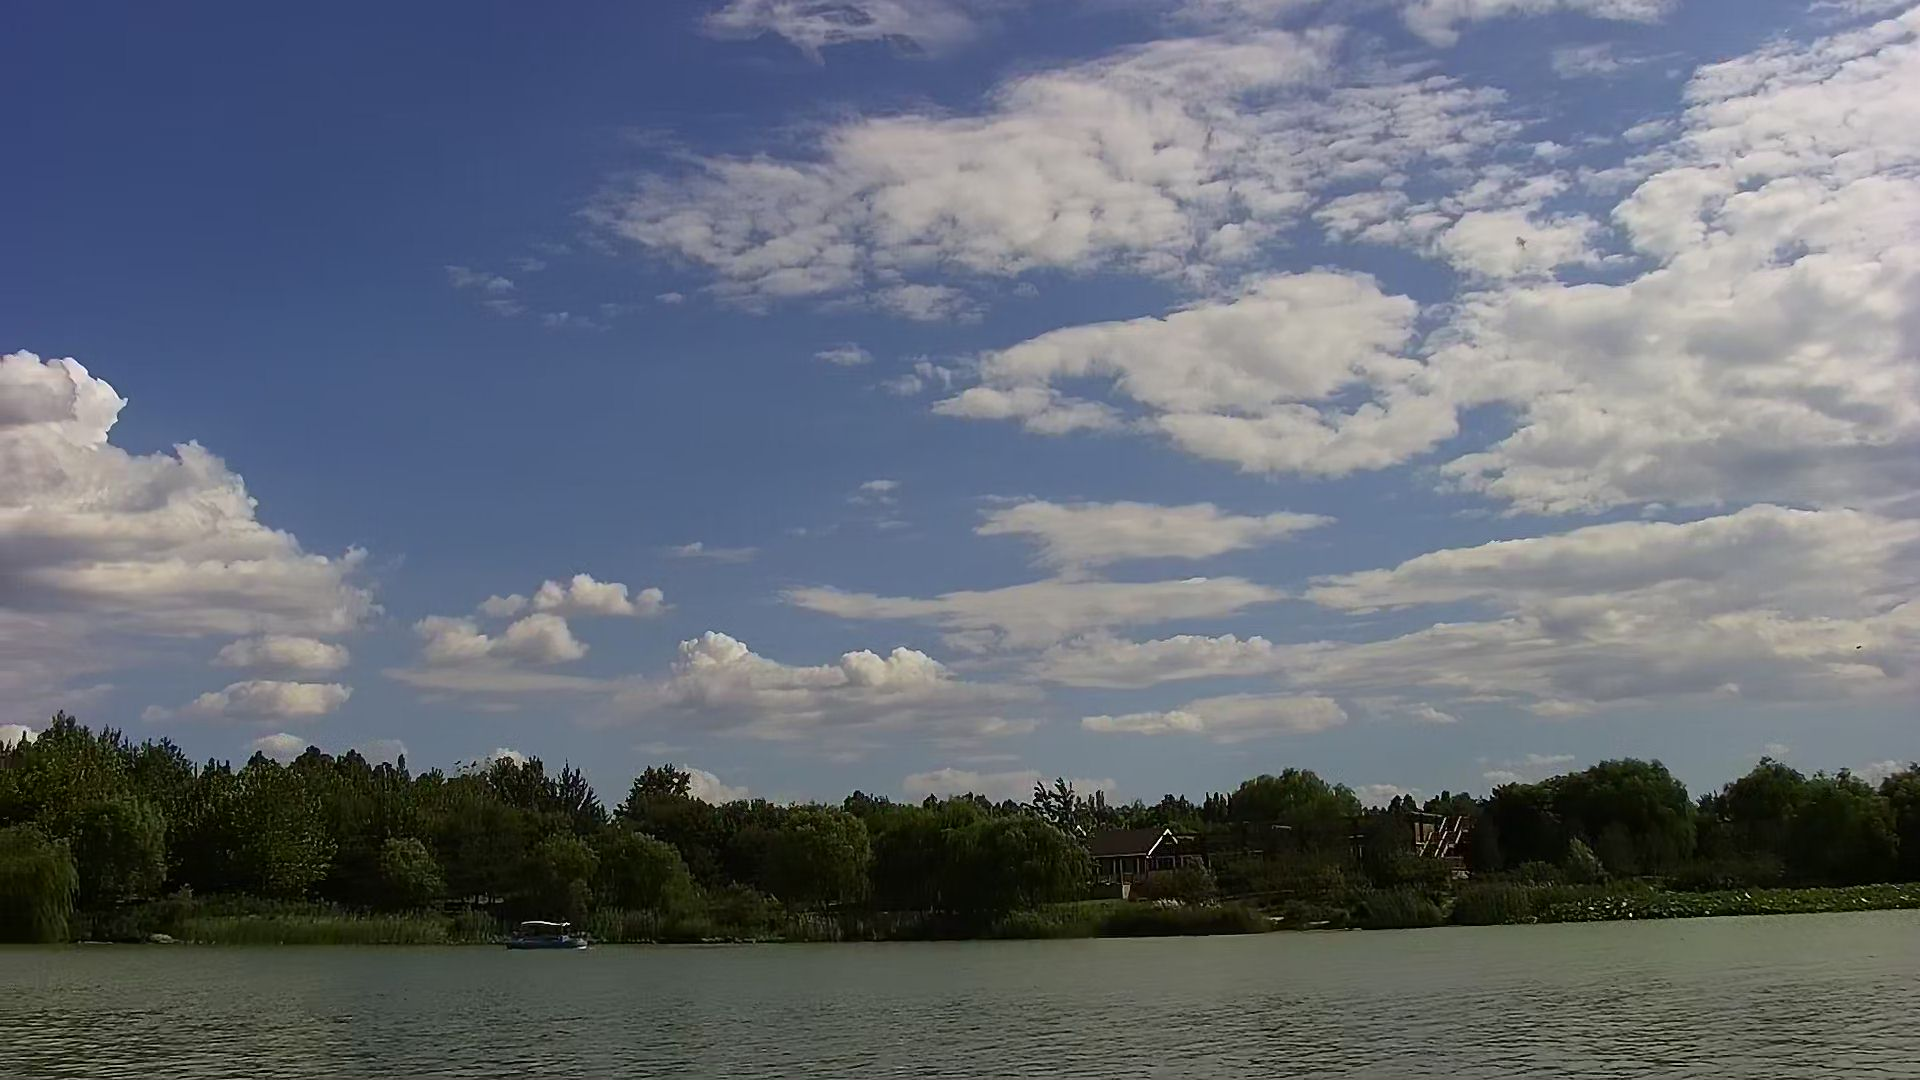boat: (495, 911, 599, 964)
